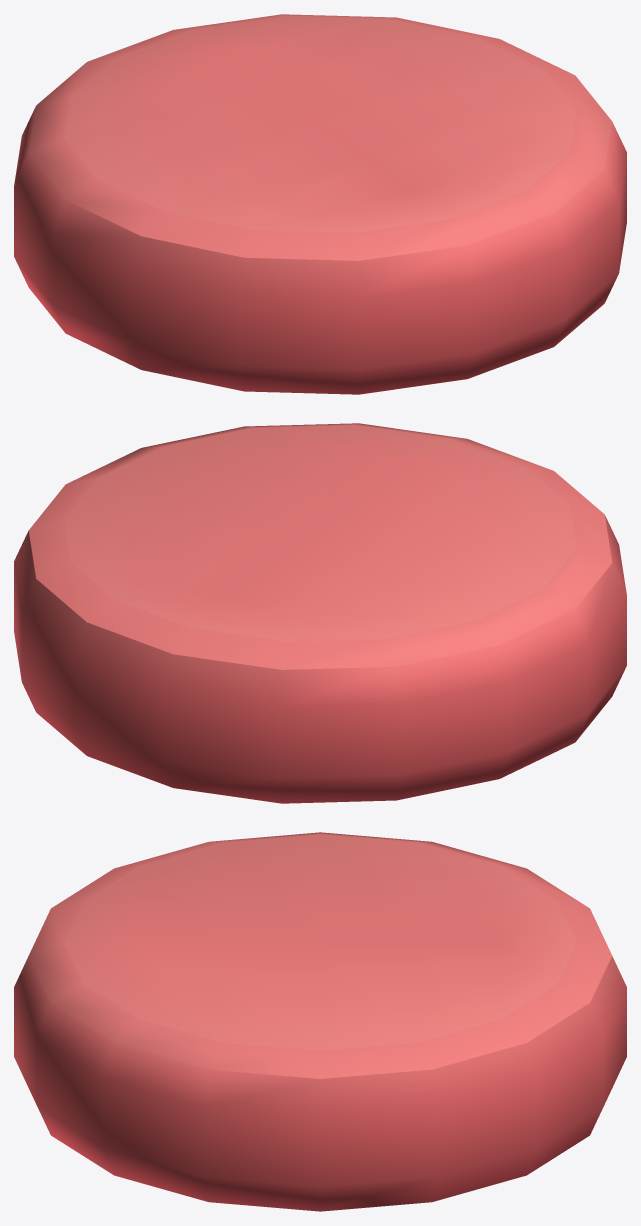
The model's file is kay-food_ingredient_burger_uncooked.glb.
3 views of the same model, one above another, from view 1: azimuth 30°, elevation 25°; view 2: azimuth 150°, elevation 25°; view 3: azimuth 270°, elevation 25° (orthographic).
Visible parts, largest first — view 1: food_ingredient_burger_uncooked; view 2: food_ingredient_burger_uncooked; view 3: food_ingredient_burger_uncooked.
Boxes of the visible parts, left/top/right/bottom form: food_ingredient_burger_uncooked: left=14, top=14, right=626, bottom=394; food_ingredient_burger_uncooked: left=14, top=423, right=626, bottom=803; food_ingredient_burger_uncooked: left=14, top=832, right=626, bottom=1211.
Bounding box in the file's own units: 0.22 × 0.0629 × 0.22.
1 material, 1 textured.
